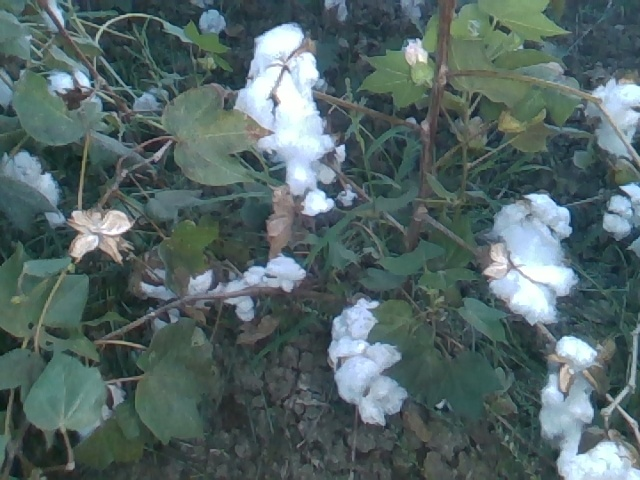cotton: (225, 22, 357, 213), (528, 335, 639, 480), (482, 189, 574, 330), (326, 291, 409, 427), (124, 262, 256, 324), (1, 144, 70, 234), (1, 68, 108, 118), (584, 76, 640, 158), (596, 181, 640, 259), (220, 255, 308, 294)
